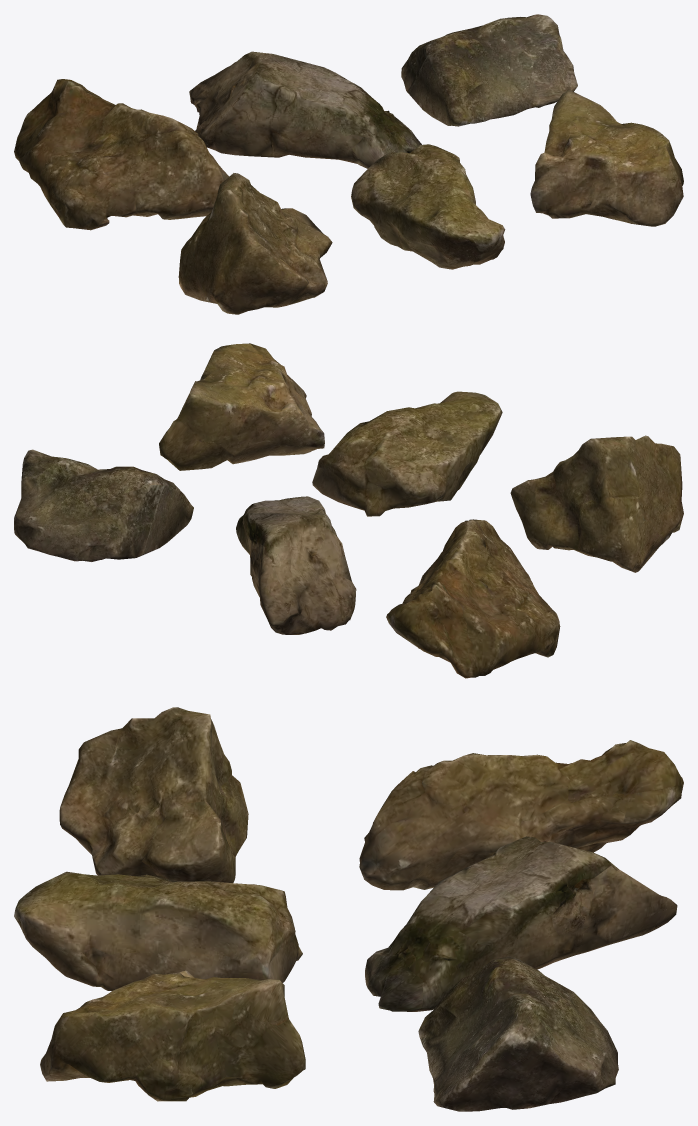
File: rock_moss_set_01.glb
3 renders of one model, top to bottom at view 1: azimuth 30°, elevation 25°; view 2: azimuth 150°, elevation 25°; view 3: azimuth 270°, elevation 25°, orthographic. The views are drawn at different scales.
Parts seen in each view (by area): view 1: rock_moss_set_01_rock01; view 2: rock_moss_set_01_rock01; view 3: rock_moss_set_01_rock01.
Part boxes in pixels (x1,y1,x2,y2): rock_moss_set_01_rock01: [14, 14, 683, 314]; rock_moss_set_01_rock01: [14, 343, 683, 678]; rock_moss_set_01_rock01: [14, 707, 683, 1111].
Bounding box in the file's own units: 8 × 1.76 × 6.94.
1 material, 1 textured.
